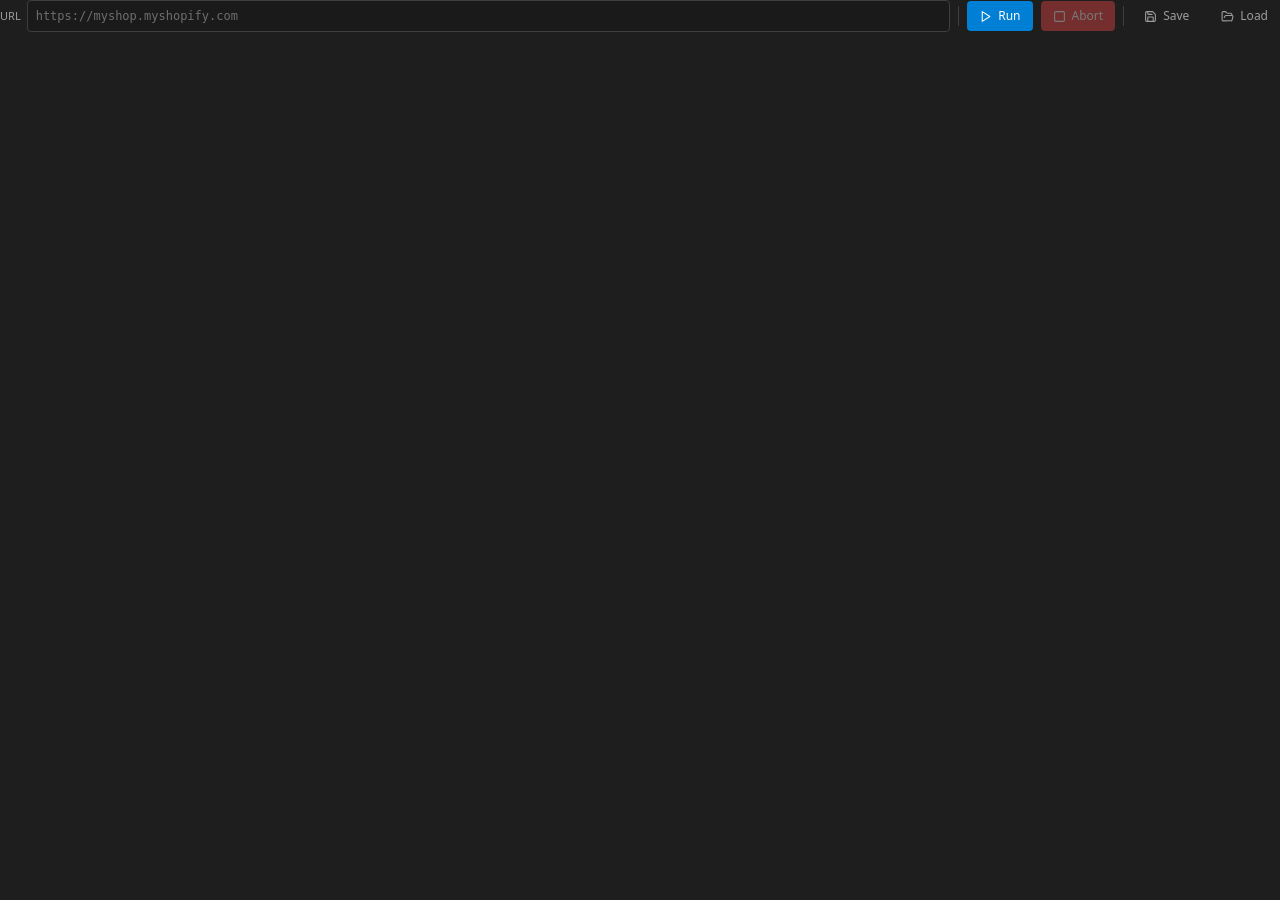
Toolbar › closes Save dialog when Cancel is clicked
This screenshot has width=1280, height=900.
Click the button with aria-label "save test suite": [1167, 16] box [1132,1,1201,31]
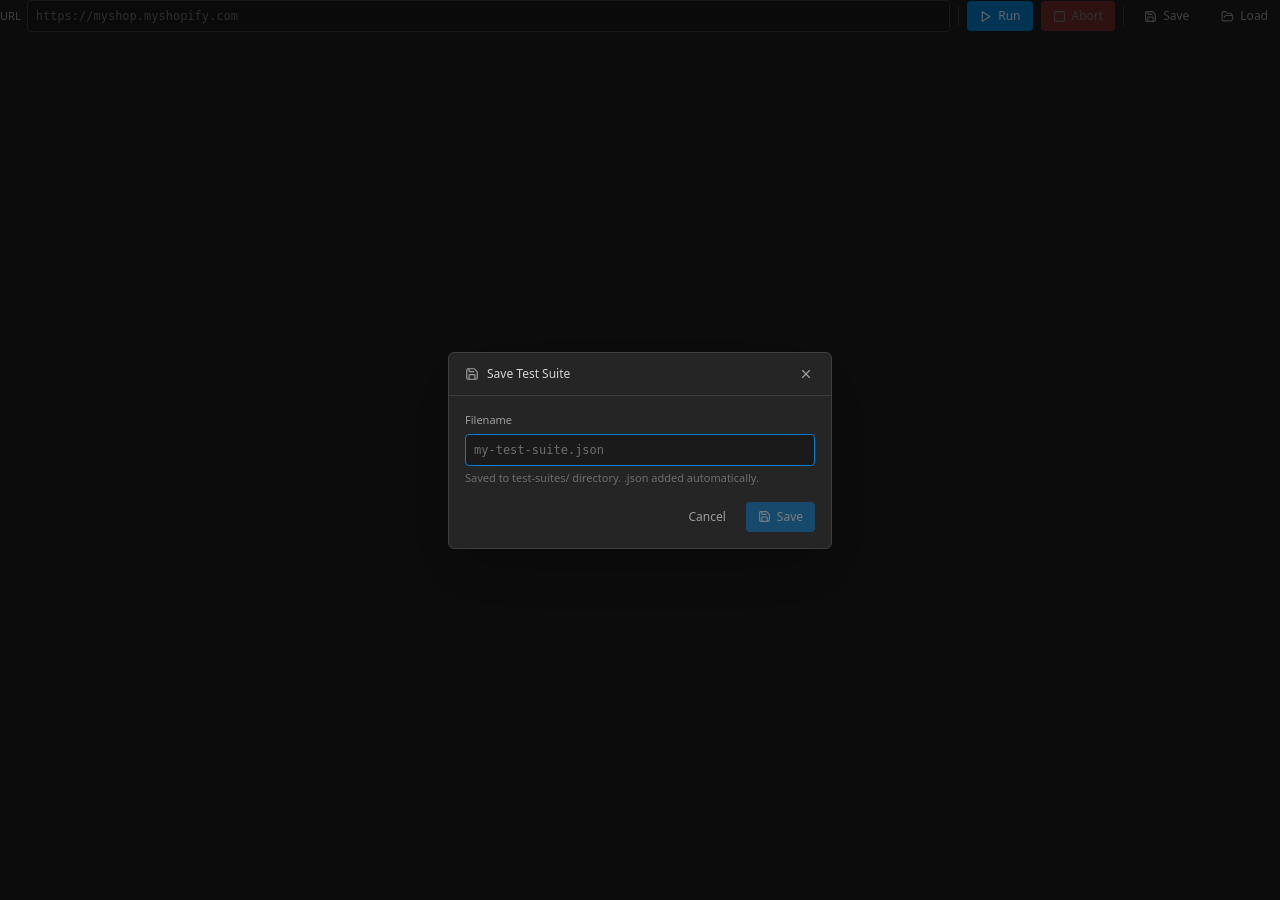
Check: the dialog is shown
Click the button "Cancel": [707, 516] box [676,502,738,532]
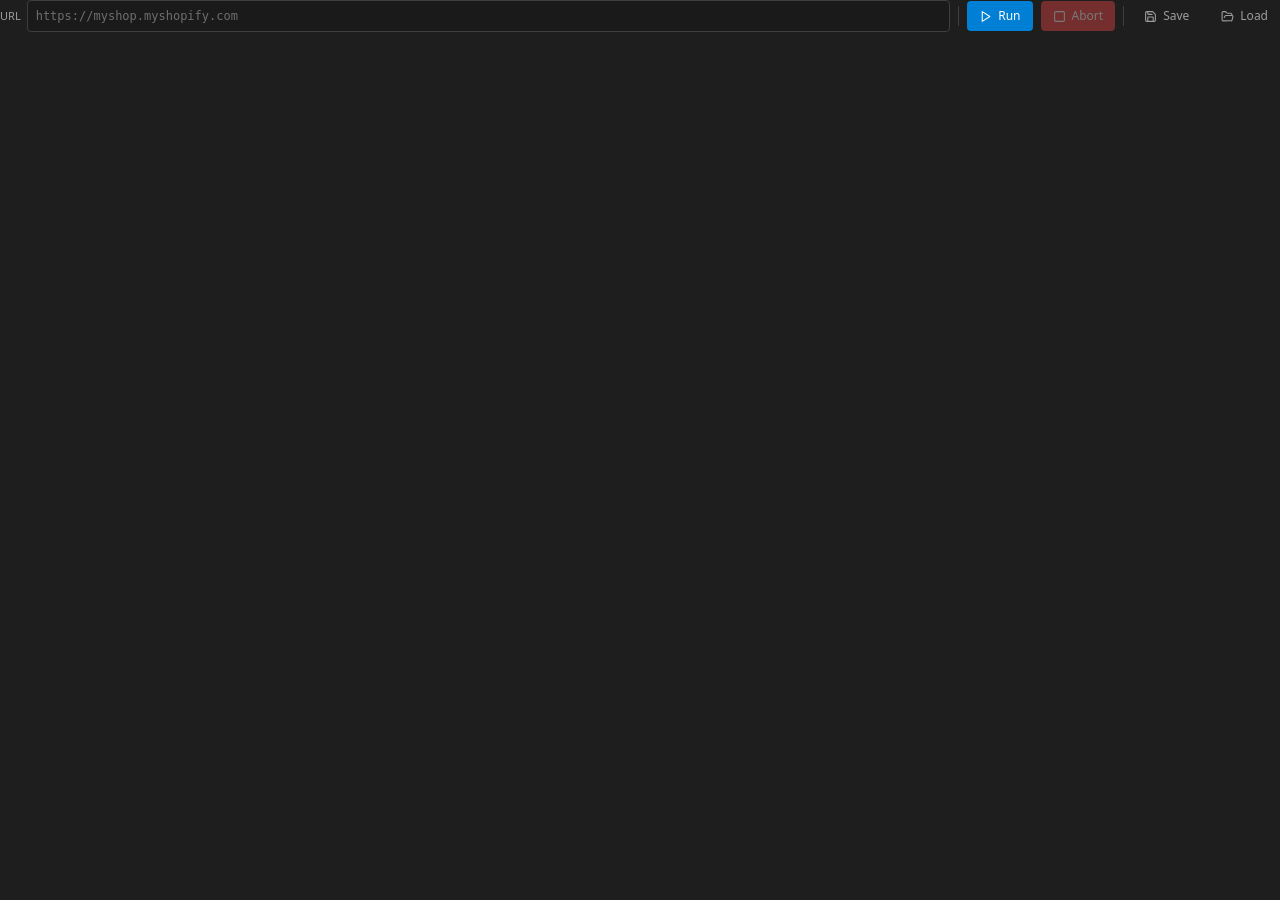
Check: the dialog is gone
